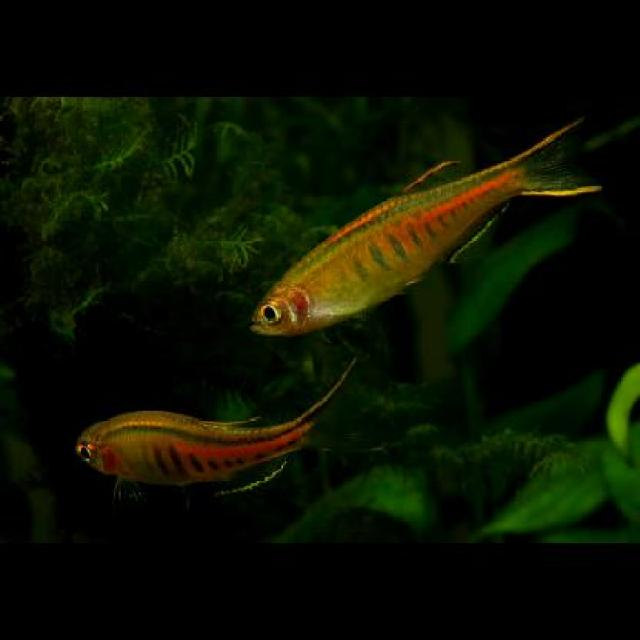ZebraFish: (247, 112, 593, 331)
